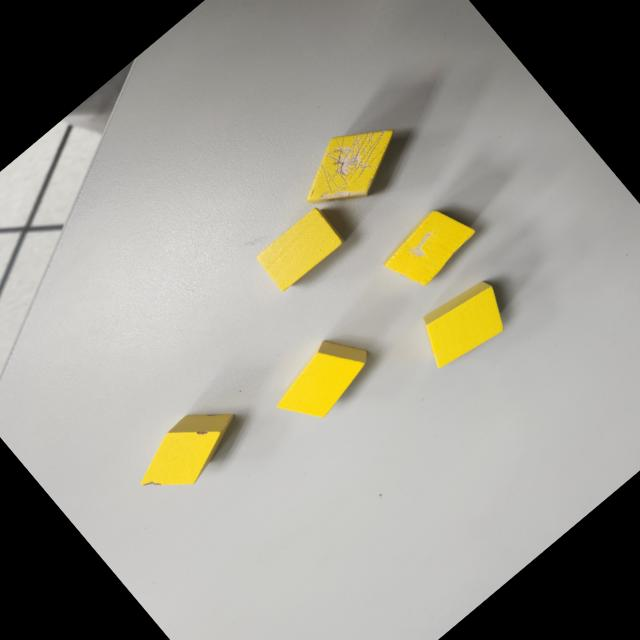broken: (285, 104, 415, 228), (124, 391, 250, 510), (374, 195, 483, 299)
yellow: (262, 322, 382, 436), (406, 269, 519, 378), (252, 204, 348, 296)
